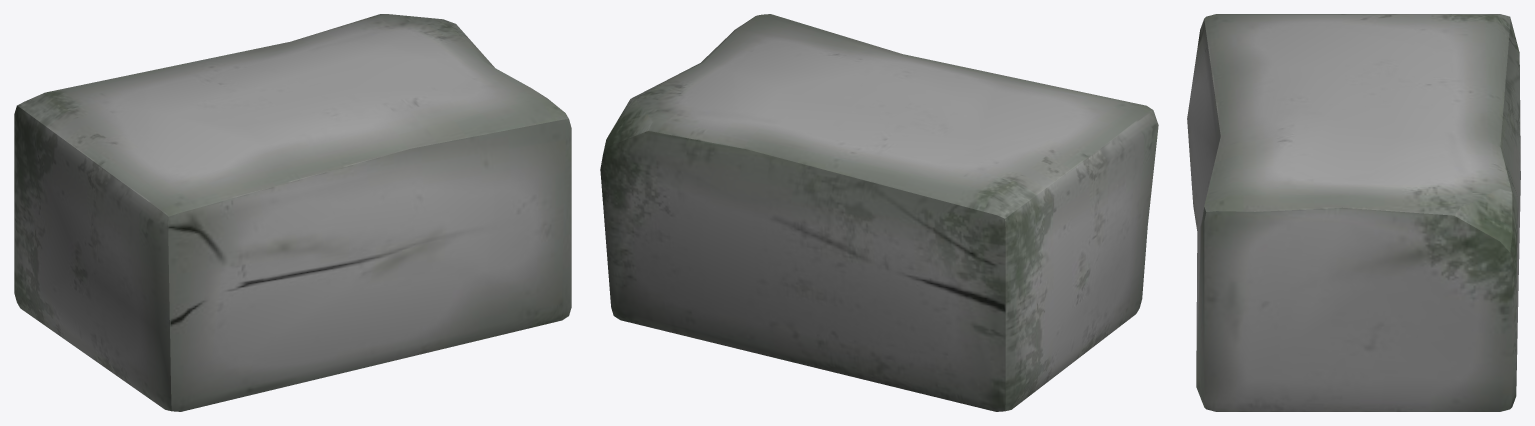
File: RuinsBrick2.fbx
3 views of the same model, side by side, from view 1: azimuth 30°, elevation 25°; view 2: azimuth 150°, elevation 25°; view 3: azimuth 270°, elevation 25° (orthographic). The views are drawn at different scales.
Visible parts, largest first — view 1: Ruins_brick2; view 2: Ruins_brick2; view 3: Ruins_brick2.
Boxes of the visible parts, x1=… form: Ruins_brick2: x1=14, y1=14, x2=571, y2=411; Ruins_brick2: x1=600, y1=14, x2=1158, y2=411; Ruins_brick2: x1=1187, y1=14, x2=1520, y2=411.
Bounding box in the file's own units: 25.47 × 12.94 × 17.25.
